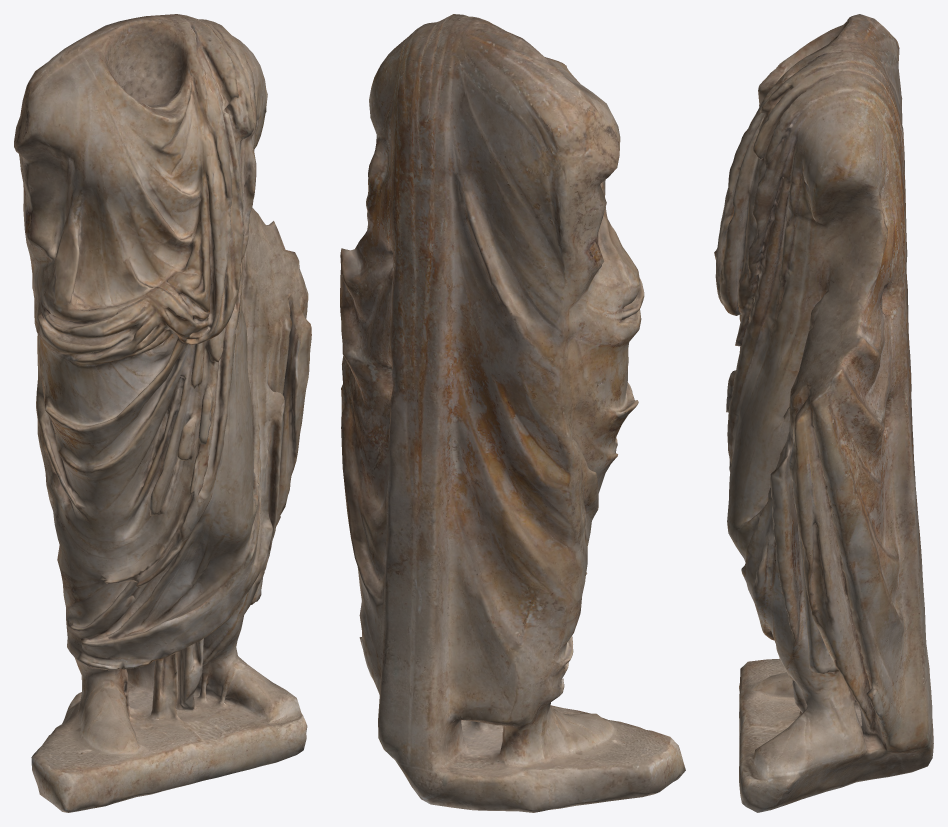
Rendered from Roman Statue_LOD0__tgsibj3fa 1.gltf.
3 renders of one model, left to right at view 1: azimuth 30°, elevation 25°; view 2: azimuth 150°, elevation 25°; view 3: azimuth 270°, elevation 25°, orthographic. The views are drawn at different scales.
Parts seen in each view (by area): view 1: Aset_stone_carved_L_tgsibj3fa_LOD0; view 2: Aset_stone_carved_L_tgsibj3fa_LOD0; view 3: Aset_stone_carved_L_tgsibj3fa_LOD0.
Boxes of the visible parts, x1,y1,x2,y2 form: Aset_stone_carved_L_tgsibj3fa_LOD0: (14,14,311,812); Aset_stone_carved_L_tgsibj3fa_LOD0: (340,14,685,812); Aset_stone_carved_L_tgsibj3fa_LOD0: (714,14,933,812).
Size of the model in its own units: 80 by 195 by 53.07.
1 material, 1 textured.
